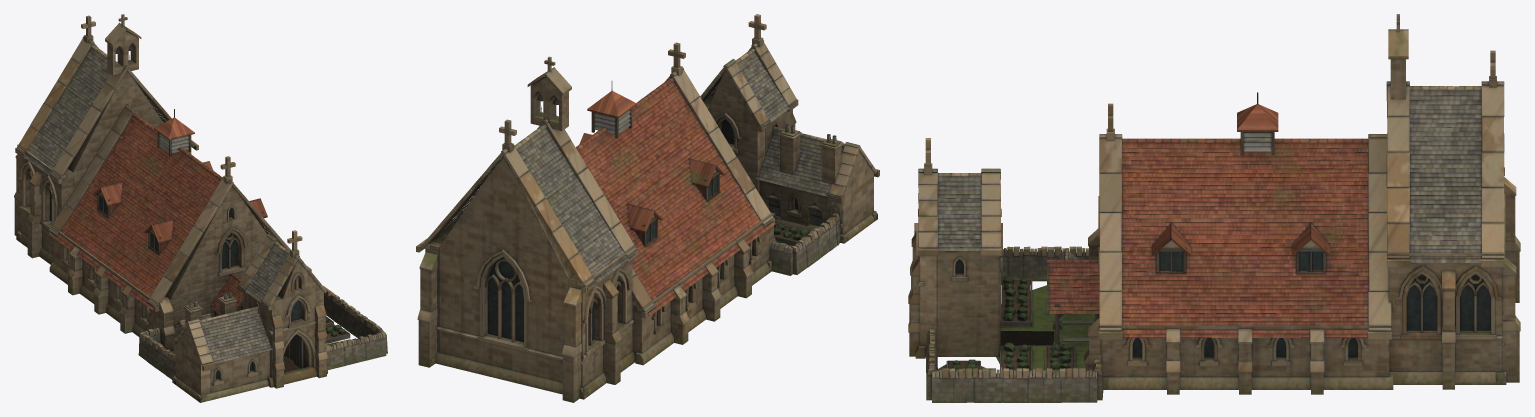
File: hospital.glb
The picture shows the model from 3 angles, left to right: view 1: azimuth 30°, elevation 25°; view 2: azimuth 150°, elevation 25°; view 3: azimuth 270°, elevation 25°; orthographic projection. The views are drawn at different scales.
Visible parts, largest first — view 1: hospital_LOD0; view 2: hospital_LOD0; view 3: hospital_LOD0.
Boxes of the visible parts, x1=… form: hospital_LOD0: x1=14, y1=14, x2=387, y2=402; hospital_LOD0: x1=416, y1=14, x2=879, y2=402; hospital_LOD0: x1=908, y1=14, x2=1520, y2=402.
Size of what is drawn, in the model's own units: 14.75 by 17.65 by 29.8.
1 material, 1 textured.
